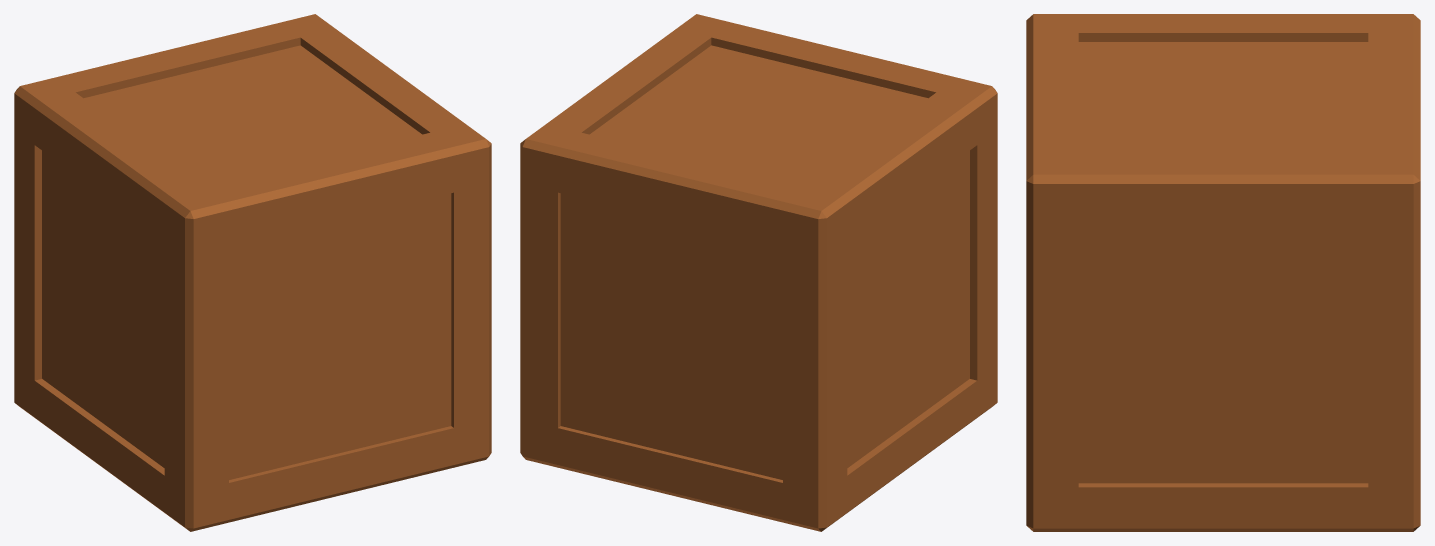
The model's file is crate2.glb.
3 views of the same model, side by side, from view 1: azimuth 30°, elevation 25°; view 2: azimuth 150°, elevation 25°; view 3: azimuth 270°, elevation 25° (orthographic). The views are drawn at different scales.
Parts seen in each view (by area): view 1: crate2; view 2: crate2; view 3: crate2.
Boxes of the visible parts, x1,y1,x2,y2 form: crate2: (14,14,491,531); crate2: (520,14,997,531); crate2: (1026,14,1420,531).
Bounding box in the file's own units: 0.8836 × 0.8836 × 0.8836.
Materials: 1 (1 with a texture image).
